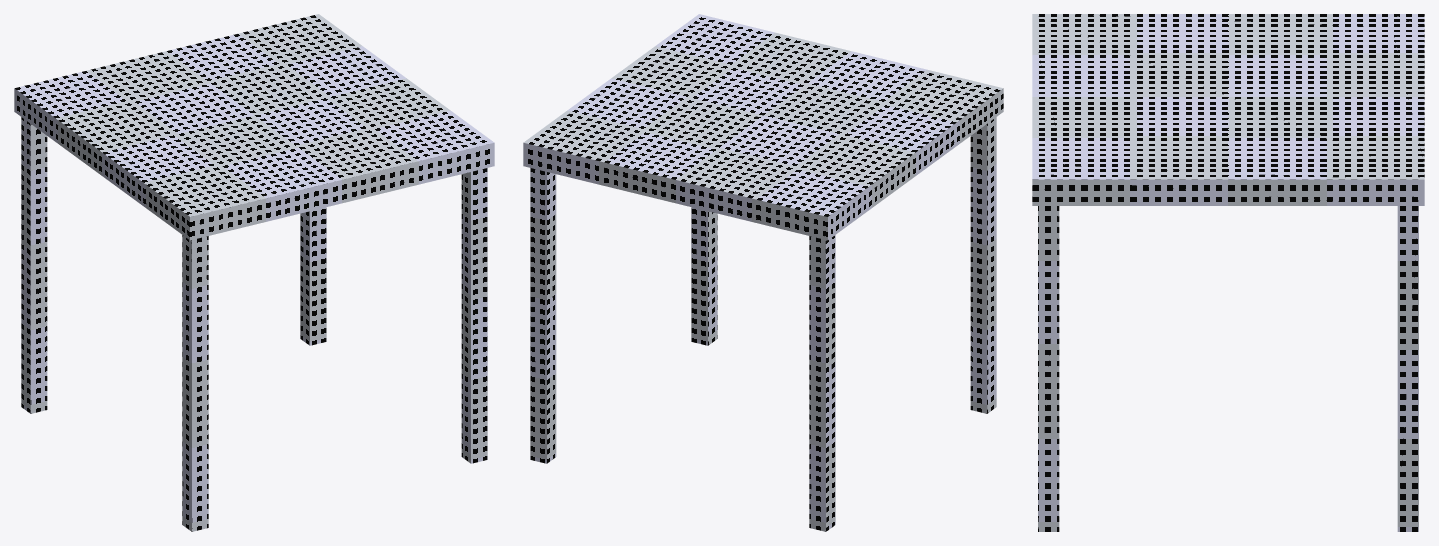
Rendered from platform.glb.
3 renders of one model, left to right at view 1: azimuth 30°, elevation 25°; view 2: azimuth 150°, elevation 25°; view 3: azimuth 270°, elevation 25°, orthographic. The views are drawn at different scales.
Visible parts, largest first — view 1: Platform; view 2: Platform; view 3: Platform.
Part boxes in pixels (<box>): Platform: <box>14,14,494,531</box>; Platform: <box>523,14,1003,531</box>; Platform: <box>1032,14,1424,531</box>.
Bounding box in the file's own units: 4 × 3.99 × 4.
Materials: 1 (1 with a texture image).
